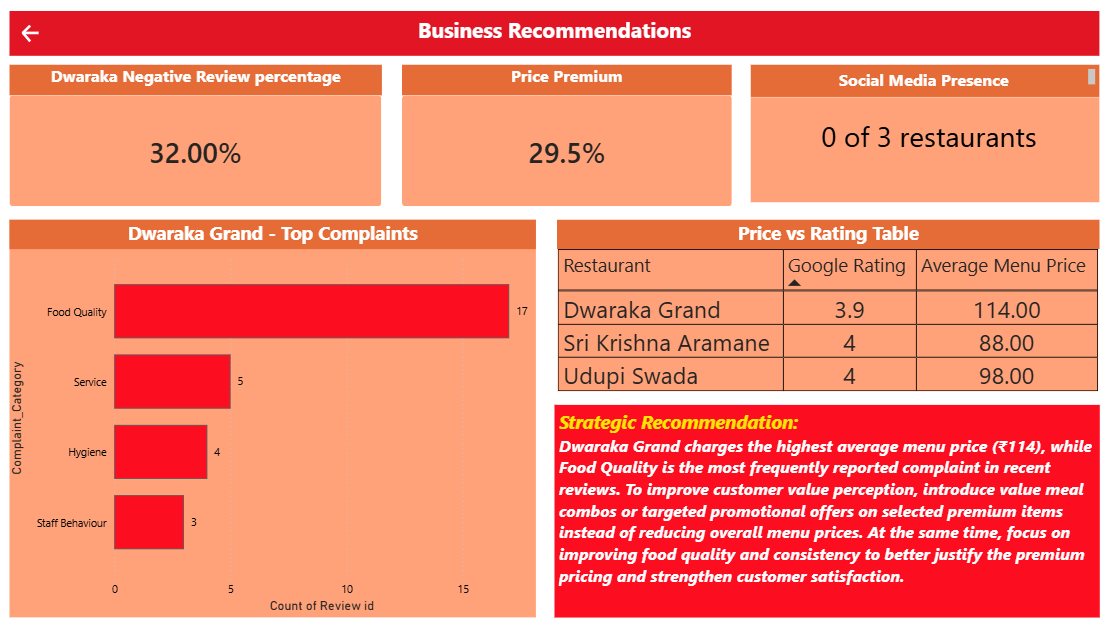

The dashboard page shown, as its layout file describes it:
{"tool":"powerbi","page":{"name":"Page 4","canvas":[1280,720],"ordinal":3},"visuals":[{"type":"textbox","box":[14.3,17.1,1245.7,51.4],"z":0},{"type":"textbox","box":[637.1,467.1,622.9,242.9],"z":1000},{"type":"cardVisual","title":"Dwaraka Negative Review percentage","fields":{"Data":["Review.Negative_reviews_percentage"]},"box":[14.3,78.6,425.7,167.1],"z":2000},{"type":"cardVisual","title":"Price Premium ","fields":{"Data":["Review.Price Premium"]},"box":[462.9,78.6,377.1,167.1],"z":3000},{"type":"textbox","box":[861.4,78.6,398.6,37.1],"z":4000},{"type":"textbox","box":[861.4,115.7,398.6,120],"z":5000},{"type":"clusteredBarChart","title":"Dwaraka Grand - Top Complaints","fields":{"Category":["Review.Complaint_Category"],"Series":["Review.Sentiment"],"Y":["Count(Review.Review id)"]},"box":[14.3,255.7,601.4,454.3],"z":6000},{"type":"tableEx","title":"Price vs Rating Table ","fields":{"Values":["Restaurant_lookup.Restaurant","Restaurant_info.Value","Avg(Menu.Price)"]},"box":[640,255.7,620,211.4],"z":7000},{"type":"actionButton","box":[24.3,28.6,81.4,28.6],"z":8000}]}

Visuals, with their boxes in screenshot pixels (x1, y1, x2, y2), scaled from the page's 1280x720 canvas onto the 1113x625 screenshot:
textbox: <bbox>12, 15, 1096, 59</bbox>
textbox: <bbox>554, 405, 1096, 616</bbox>
"Dwaraka Negative Review percentage" cardVisual: <bbox>12, 68, 383, 213</bbox>
"Price Premium " cardVisual: <bbox>403, 68, 730, 213</bbox>
textbox: <bbox>749, 68, 1096, 100</bbox>
textbox: <bbox>749, 100, 1096, 205</bbox>
"Dwaraka Grand - Top Complaints" clusteredBarChart: <bbox>12, 222, 535, 616</bbox>
"Price vs Rating Table " tableEx: <bbox>556, 222, 1096, 405</bbox>
actionButton: <bbox>21, 25, 92, 50</bbox>
